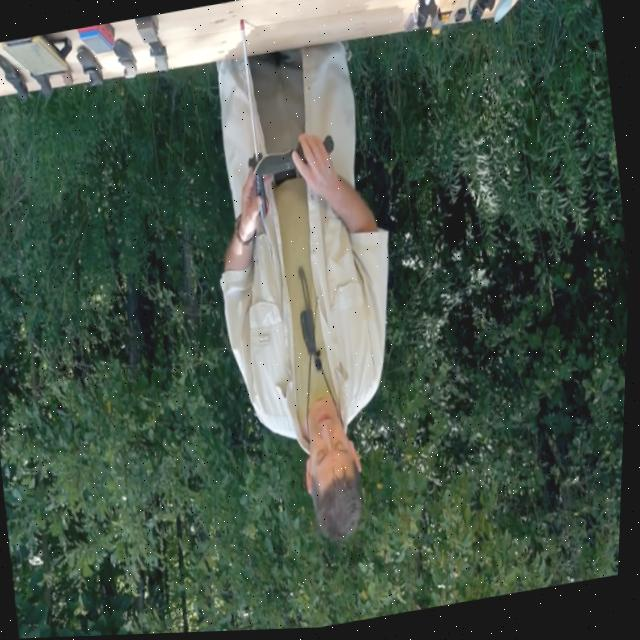knife: (251, 140, 310, 179), (0, 47, 31, 106), (73, 42, 106, 90), (110, 34, 140, 82), (146, 36, 171, 75), (28, 65, 54, 97), (58, 69, 75, 88)
